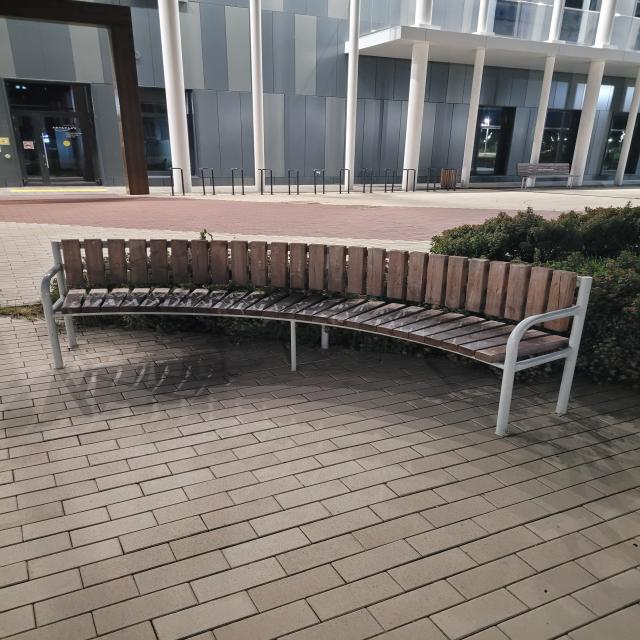Bench: (40, 239, 593, 434)
